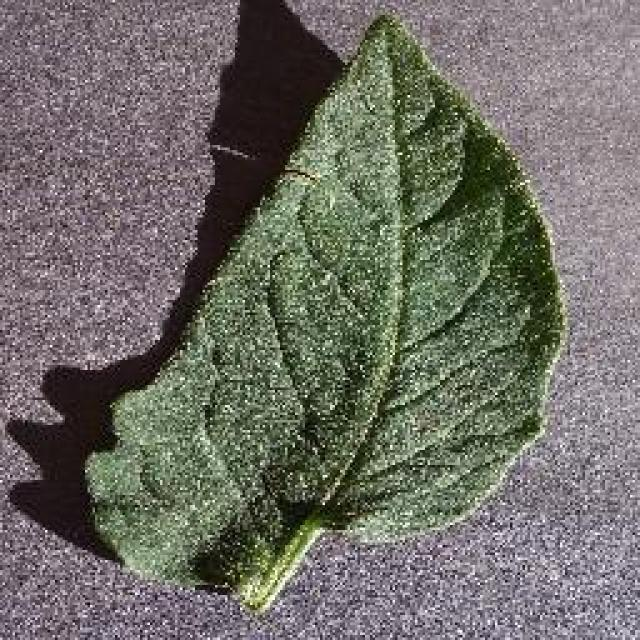Healthy: (59, 0, 582, 632)
